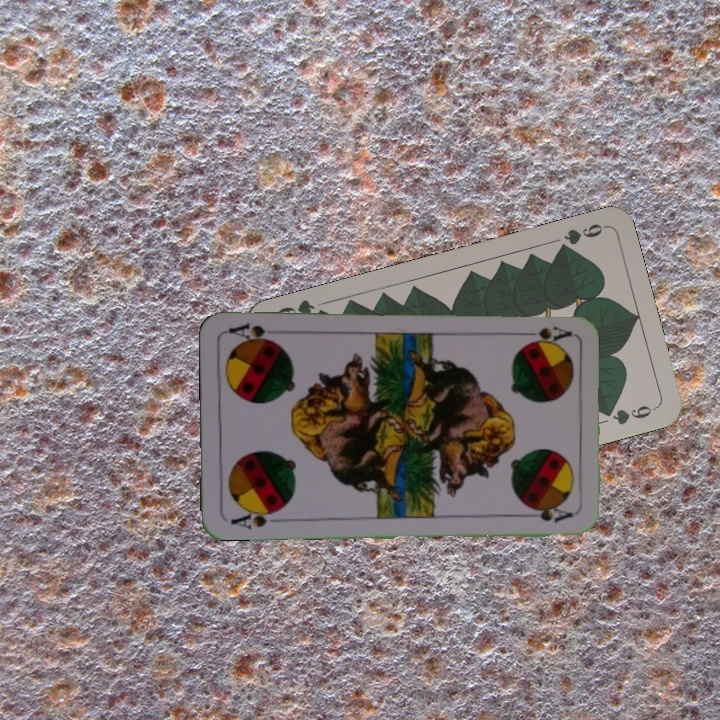G9: (553, 219, 608, 255)
SA: (226, 504, 284, 532), (514, 321, 573, 344)
